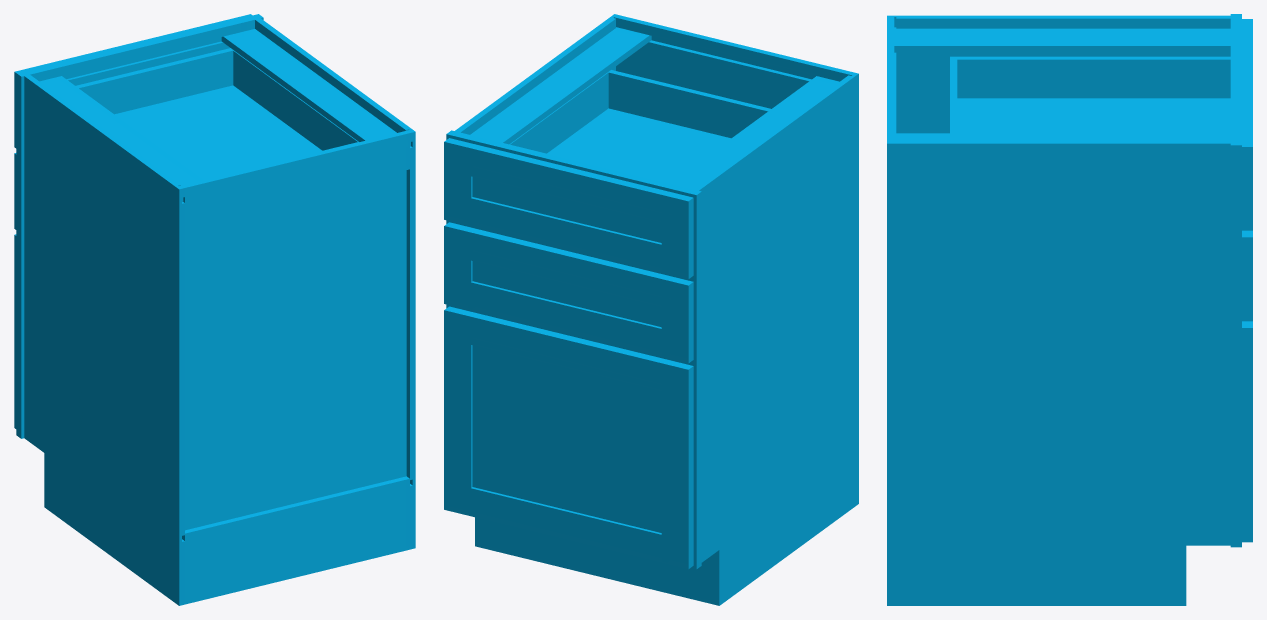
3 renders of one model, left to right at view 1: azimuth 30°, elevation 25°; view 2: azimuth 150°, elevation 25°; view 3: azimuth 270°, elevation 25°, orthographic. The views are drawn at different scales.
Visible parts, largest first — view 1: mesh97_mesh97-geometry, mesh101_mesh101-geometry, mesh105_mesh105-geometry, mesh7_mesh7-geometry, mesh103_mesh103-geometry, mesh95_mesh95-geometry, mesh9_mesh9-geometry, mesh128_mesh128-geometry, mesh109_mesh109-geometry, mesh5_mesh5-geometry, mesh107_mesh107-geometry, mesh130_mesh130-geometry (+2 smaller); view 2: mesh101_mesh101-geometry, mesh69_mesh69-geometry, mesh7_mesh7-geometry, mesh124_mesh124-geometry, mesh71_mesh71-geometry, mesh13_mesh13-geometry, mesh47_mesh47-geometry, mesh85_mesh85-geometry, mesh97_mesh97-geometry, mesh83_mesh83-geometry, mesh24_mesh24-geometry, mesh58_mesh58-geometry (+15 smaller); view 3: mesh95_mesh95-geometry, mesh3_mesh3-geometry, mesh101_mesh101-geometry, mesh7_mesh7-geometry, mesh130_mesh130-geometry, mesh99_mesh99-geometry, mesh128_mesh128-geometry, mesh83_mesh83-geometry, mesh109_mesh109-geometry, mesh13_mesh13-geometry, mesh22_mesh22-geometry, mesh45_mesh45-geometry (+2 smaller).
Boxes of the visible parts, <box> form: mesh97_mesh97-geometry: <box>185,170,406,530</box>; mesh101_mesh101-geometry: <box>23,73,184,605</box>; mesh105_mesh105-geometry: <box>182,476,409,604</box>; mesh7_mesh7-geometry: <box>114,85,322,179</box>; mesh103_mesh103-geometry: <box>182,130,409,223</box>; mesh95_mesh95-geometry: <box>253,17,415,549</box>; mesh9_mesh9-geometry: <box>76,48,233,114</box>; mesh128_mesh128-geometry: <box>221,29,410,146</box>; mesh109_mesh109-geometry: <box>34,18,246,82</box>; mesh5_mesh5-geometry: <box>233,50,358,150</box>; mesh107_mesh107-geometry: <box>16,69,38,438</box>; mesh130_mesh130-geometry: <box>39,76,203,201</box>; mesh101_mesh101-geometry: <box>691,72,858,605</box>; mesh69_mesh69-geometry: <box>472,345,661,532</box>; mesh7_mesh7-geometry: <box>547,108,730,183</box>; mesh124_mesh124-geometry: <box>481,519,713,604</box>; mesh71_mesh71-geometry: <box>661,359,693,569</box>; mesh13_mesh13-geometry: <box>471,144,666,222</box>; mesh47_mesh47-geometry: <box>471,229,666,306</box>; mesh85_mesh85-geometry: <box>471,313,666,391</box>; mesh97_mesh97-geometry: <box>616,41,809,108</box>; mesh83_mesh83-geometry: <box>444,306,475,516</box>; mesh24_mesh24-geometry: <box>471,197,661,272</box>; mesh58_mesh58-geometry: <box>471,281,661,356</box>; mesh95_mesh95-geometry: <box>887,140,1234,605</box>; mesh3_mesh3-geometry: <box>950,56,1230,98</box>; mesh101_mesh101-geometry: <box>887,15,1234,133</box>; mesh7_mesh7-geometry: <box>957,98,1230,133</box>; mesh130_mesh130-geometry: <box>894,27,1230,52</box>; mesh99_mesh99-geometry: <box>1230,136,1241,547</box>; mesh128_mesh128-geometry: <box>894,133,1230,141</box>; mesh83_mesh83-geometry: <box>1242,321,1252,542</box>; mesh109_mesh109-geometry: <box>1230,23,1241,135</box>; mesh13_mesh13-geometry: <box>1242,33,1252,132</box>; mesh22_mesh22-geometry: <box>1242,133,1252,230</box>; mesh45_mesh45-geometry: <box>1242,230,1252,321</box>.
Bounding box in the file's own units: 0.4433 × 0.7283 × 0.5225.
